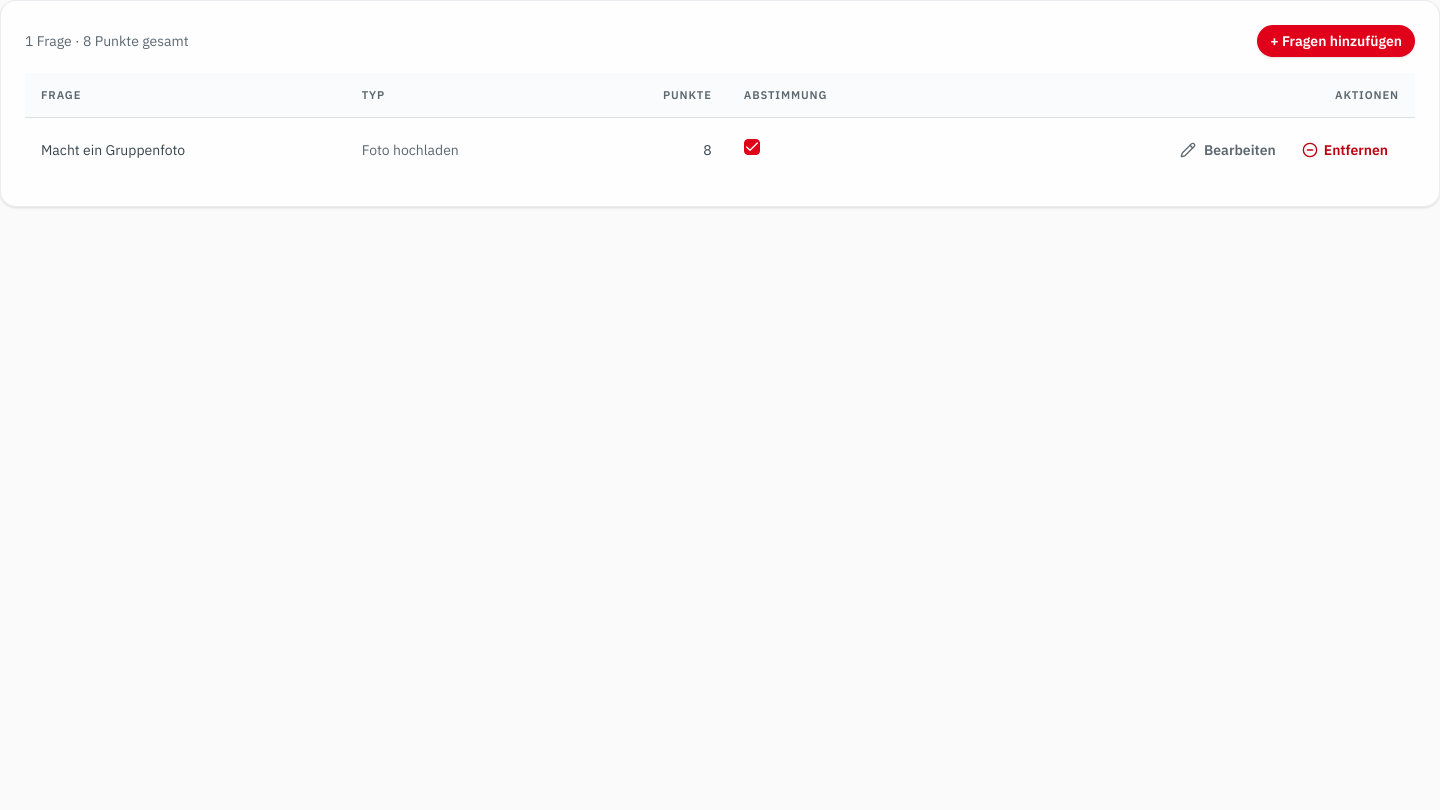
it: RallyeQuestionsManager › does not offer a second upload question and explains why
Click the button "+ Fragen hinzufügen" at (1336, 41), box left=1257, top=25, right=1415, bottom=57
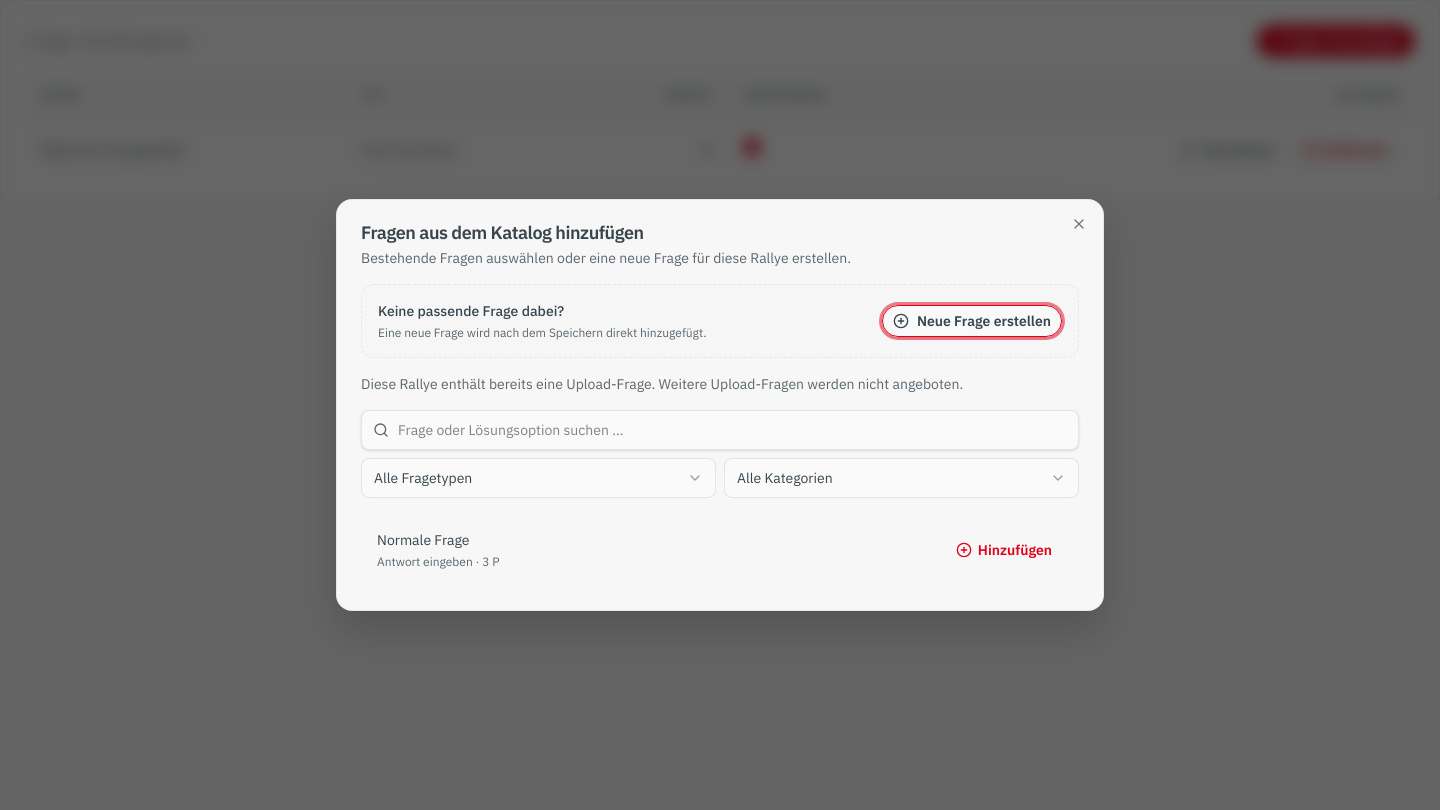
Expected: the text "Normale Frage" is shown, left=377, top=531, right=470, bottom=549
Expected: the text "Diese Rallye enthält bereits eine Upload-Frage" is shown, left=361, top=375, right=963, bottom=393
